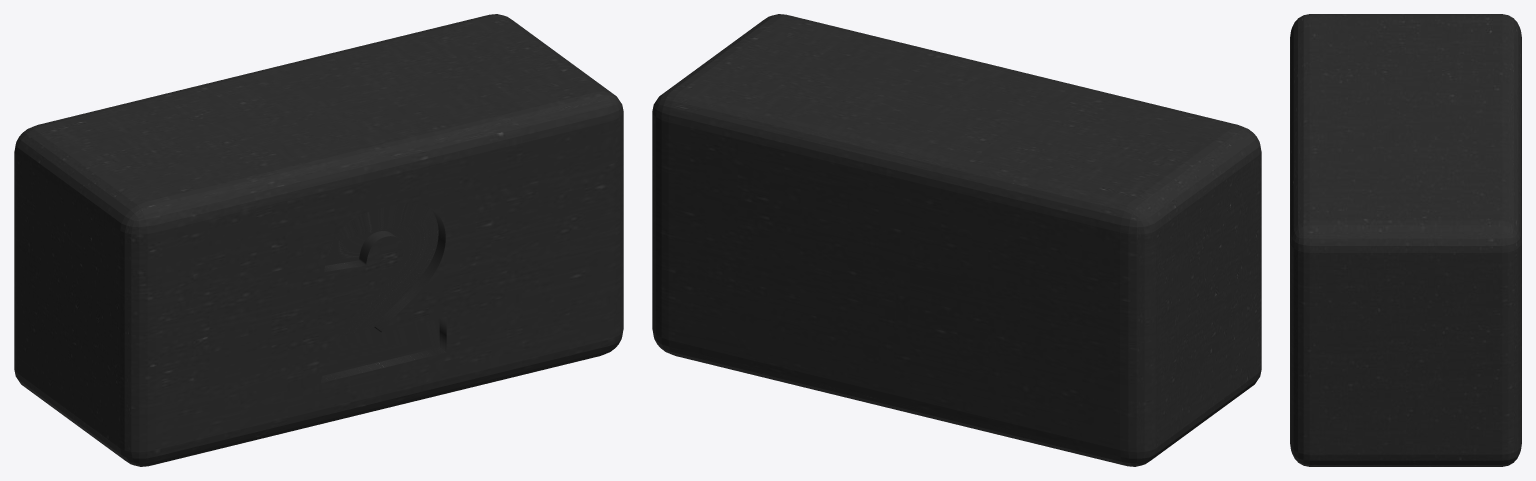
Rendered from btn_2.glb.
The picture shows the model from 3 angles, left to right: view 1: azimuth 30°, elevation 25°; view 2: azimuth 150°, elevation 25°; view 3: azimuth 270°, elevation 25°; orthographic projection. The views are drawn at different scales.
Parts seen in each view (by area): view 1: Cube.001; view 2: Cube.001; view 3: Cube.001.
Boxes of the visible parts, x1,y1,x2,y2 form: Cube.001: [14, 14, 623, 466]; Cube.001: [652, 14, 1261, 466]; Cube.001: [1290, 14, 1521, 466].
Size of the model in its own units: 3.42 by 1.71 by 1.48.
Materials: 2 (2 with a texture image).
